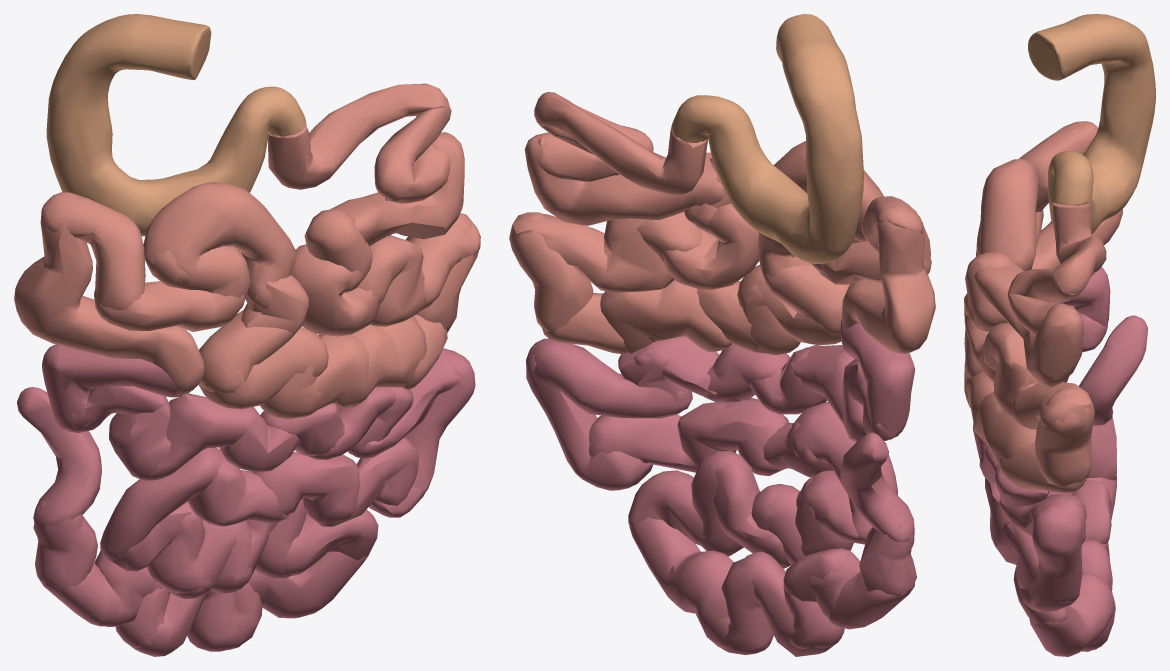
Rendered from small-intestine.glb.
The picture shows the model from 3 angles, left to right: view 1: azimuth 30°, elevation 25°; view 2: azimuth 150°, elevation 25°; view 3: azimuth 270°, elevation 25°; orthographic projection. The views are drawn at different scales.
Visible parts, largest first — view 1: jejunum, ileum, duodenum; view 2: ileum, jejunum, duodenum; view 3: jejunum, ileum, duodenum.
Boxes of the visible parts, x1,y1,x2,y2 form: jejunum: (14,83,480,419); ileum: (17,344,475,656); duodenum: (46,14,306,236); ileum: (526,320,916,656); jejunum: (509,92,935,355); duodenum: (671,14,863,263); jejunum: (964,121,1122,493); ileum: (973,267,1147,656); duodenum: (1028,14,1155,233).
Size of the model in its own units: 2.32 by 3.26 by 0.9545.
